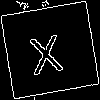X: (25, 24, 65, 76)
